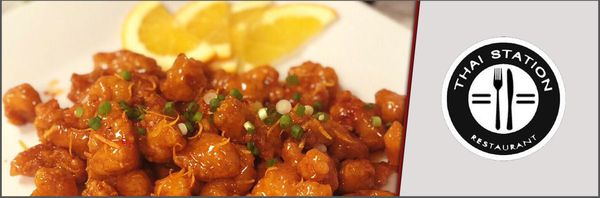sushi: (4, 1, 416, 194)
